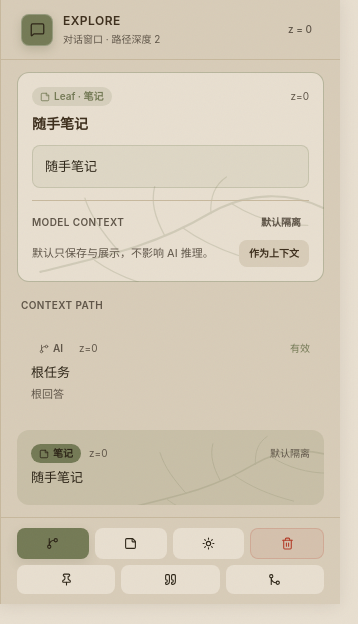
Scenario: InspectorSidebar › leaf node shows an include-in-context toggle that flips the stored flag
expect the text "默认只保存与展示，不影响 AI 推理。" is shown: met, box top-left (32, 245), bottom-right (214, 263)
Click the button "作为上下文".
click(274, 254)  # box top-left (239, 240), bottom-right (309, 267)
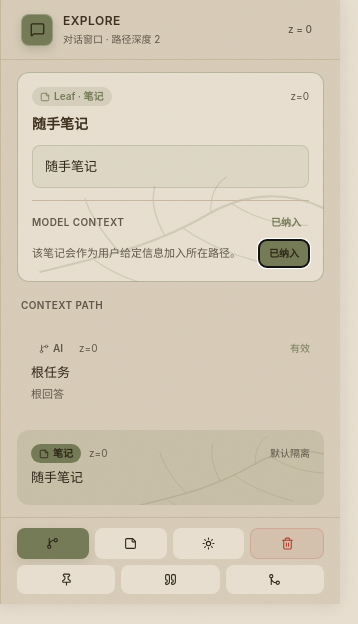
expect the button "已纳入" is shown: met
expect the text "该笔记会作为用户给定信息加入所在路径。" is shown: met, box top-left (32, 245), bottom-right (241, 263)
Toggling again returns to the isolated default.
Click the button "已纳入".
click(284, 254)  # box top-left (259, 240), bottom-right (309, 267)
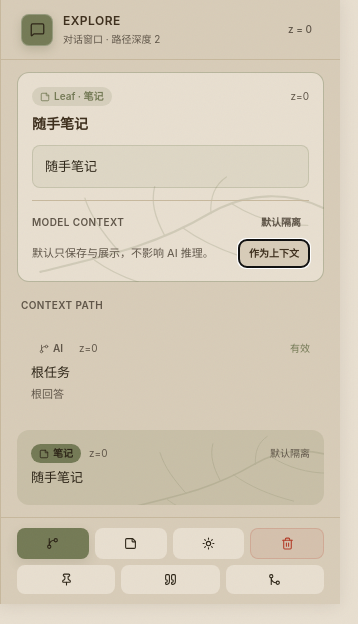
expect the button "作为上下文" is shown: met, box top-left (239, 240), bottom-right (309, 267)
